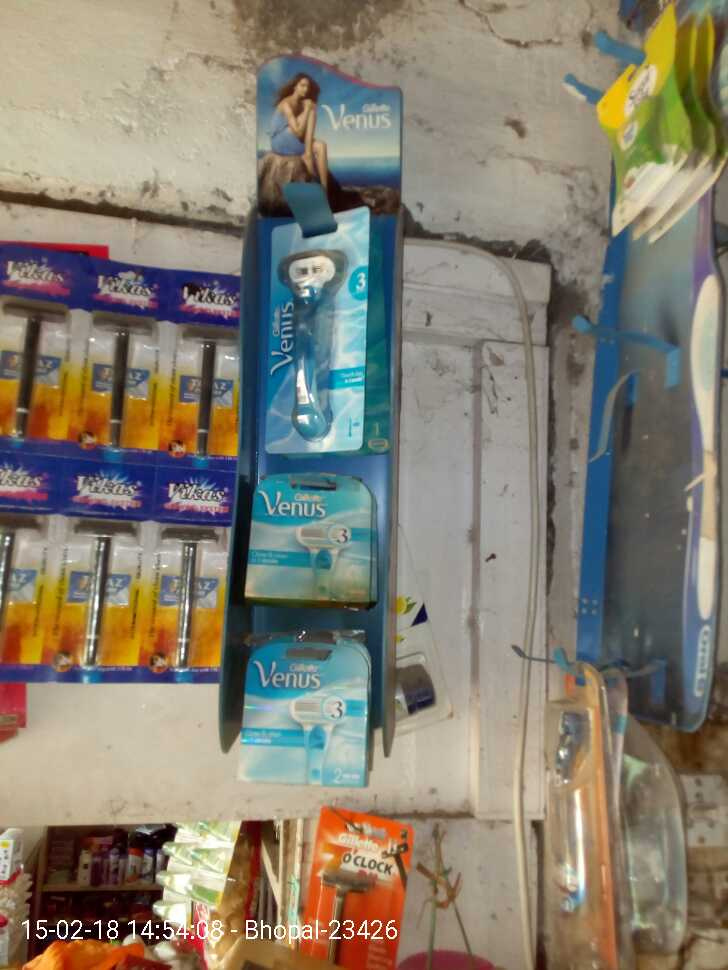venus: (261, 200, 370, 462), (233, 640, 374, 790), (239, 471, 380, 610)
